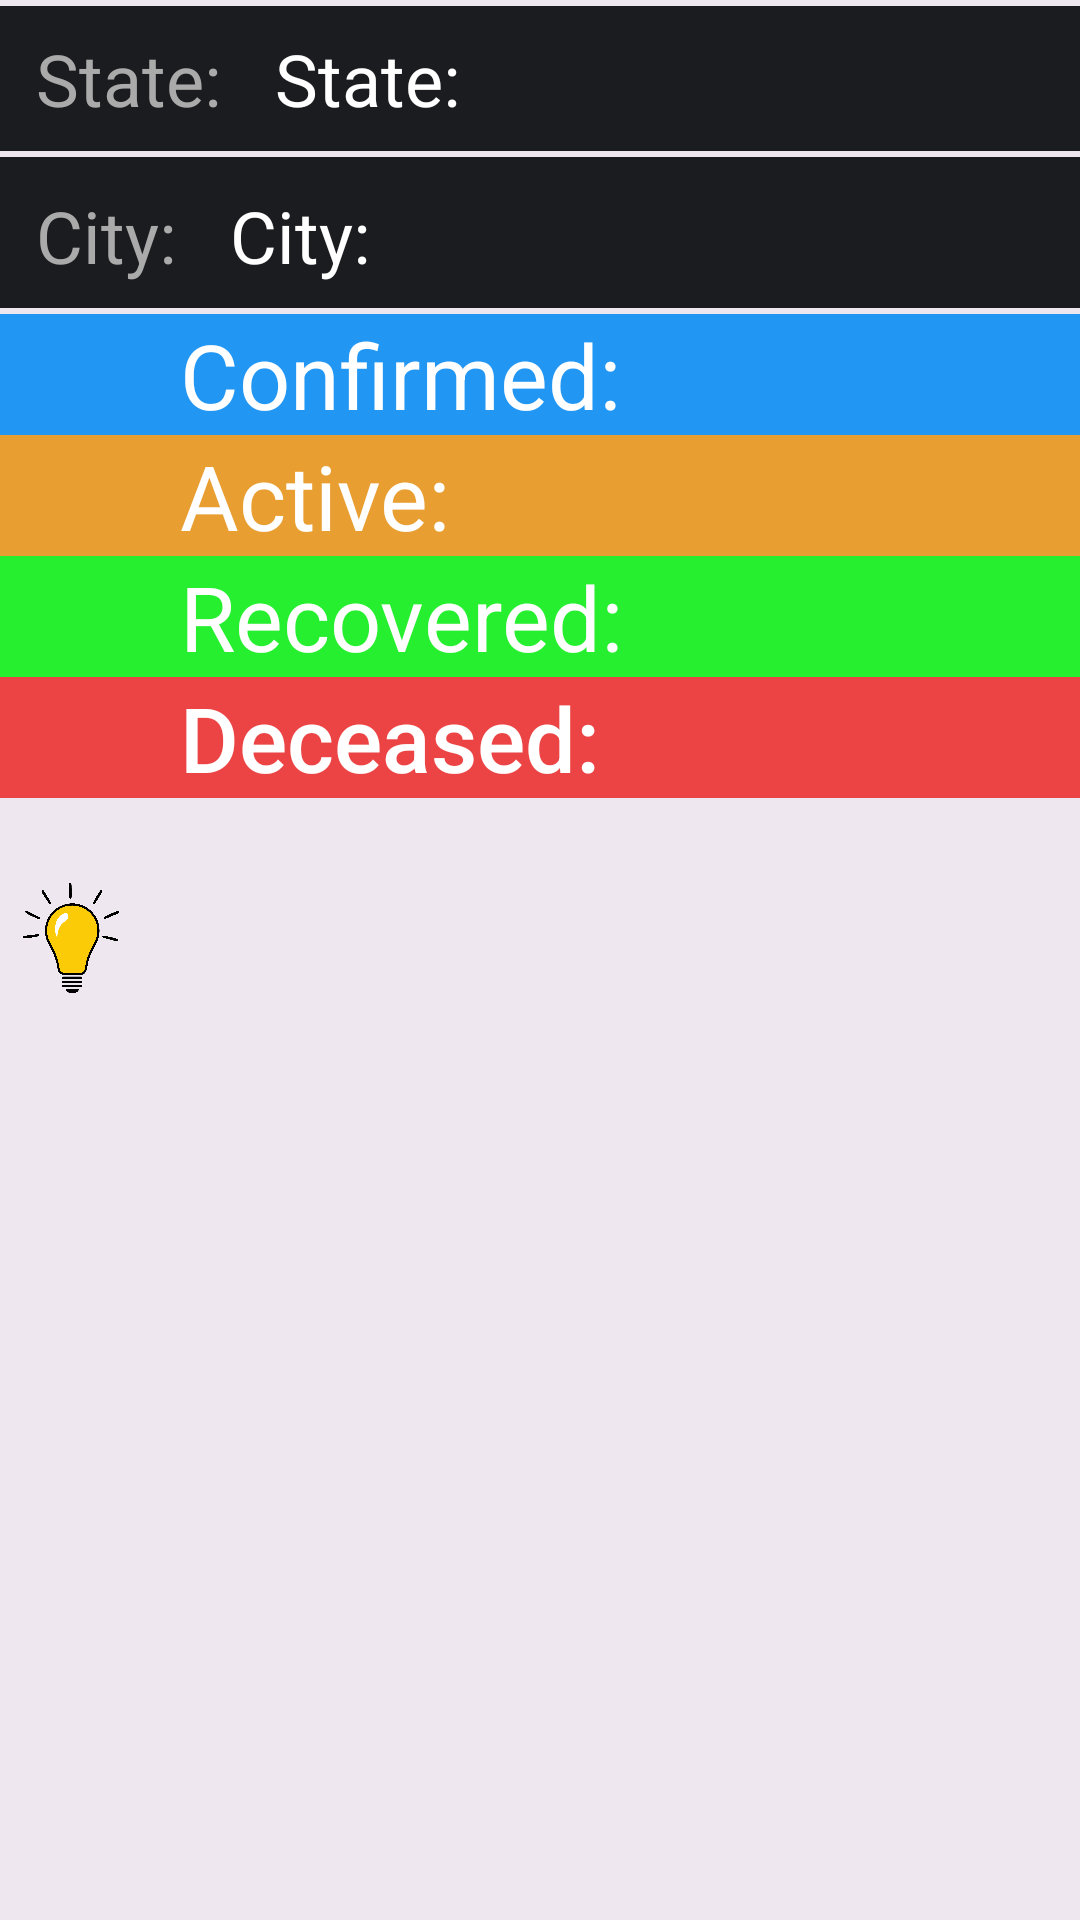

Named icons in this screenshot (1080 x 1920) and their bounding boxes, (x1=x1, y1=y1, x2=x2, y2=y2):
bulb ideas: (x1=23, y1=883, x2=119, y2=993)
